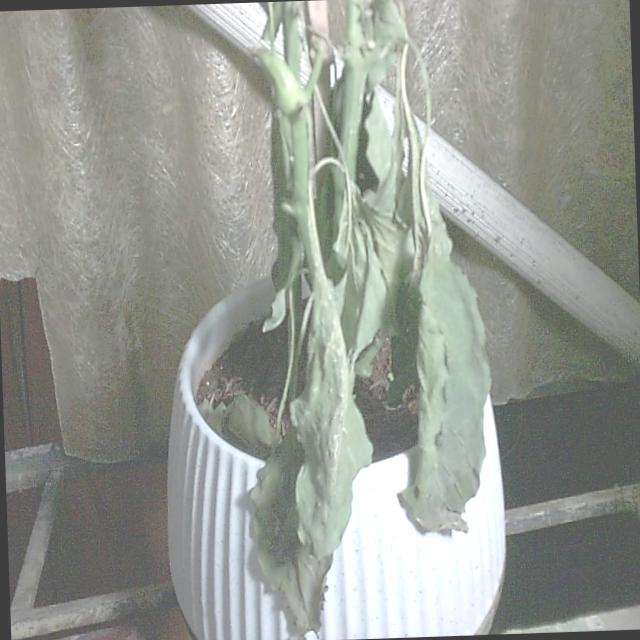Leaf: (238, 273, 380, 640), (386, 240, 496, 539)
